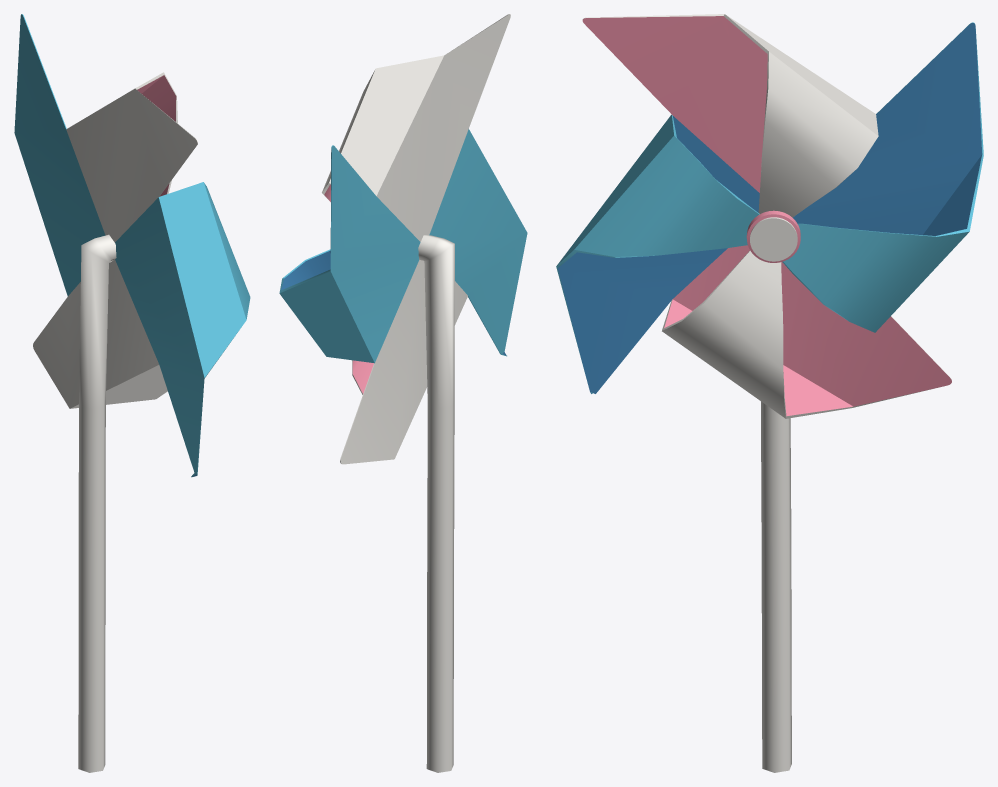
File: Pinwheel01.fbx
3 views of the same model, side by side, from view 1: azimuth 30°, elevation 25°; view 2: azimuth 150°, elevation 25°; view 3: azimuth 270°, elevation 25° (orthographic). The views are drawn at different scales.
Visible parts, largest first — view 1: Cube, BezierCurve.001; view 2: Cube, BezierCurve.001; view 3: Cube, BezierCurve.001, Cylinder.
Part boxes in pixels (x1,y1,x2,y2): Cube: (14,14,250,477); BezierCurve.001: (78,234,116,772); Cube: (279,14,527,464); BezierCurve.001: (418,235,454,772); Cube: (556,14,983,418); BezierCurve.001: (761,401,791,772); Cylinder: (746,210,800,262).
Size of the model in its own units: 6148 by 41203 by 20934.
